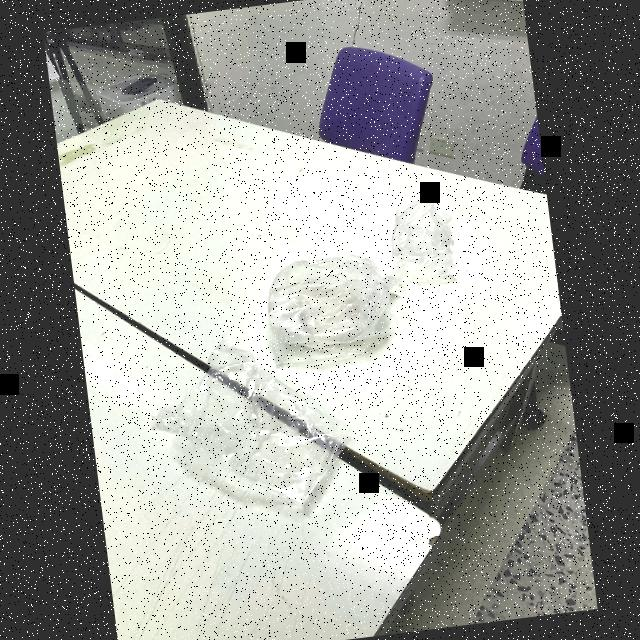plastic_bag: (258, 241, 407, 368)
scrap_plastic: (153, 332, 346, 521), (370, 180, 483, 296)
